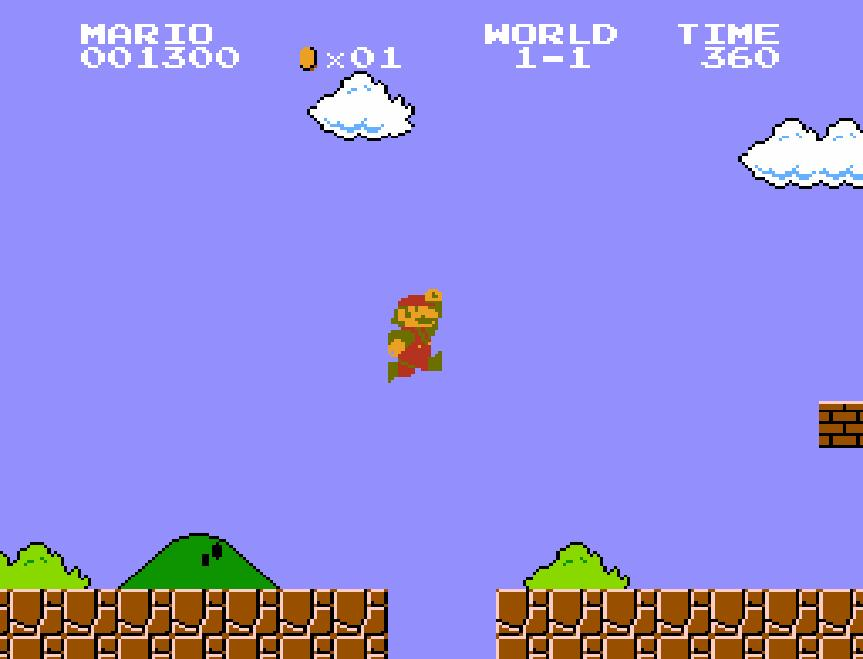big_mario: (386, 286, 444, 384)
